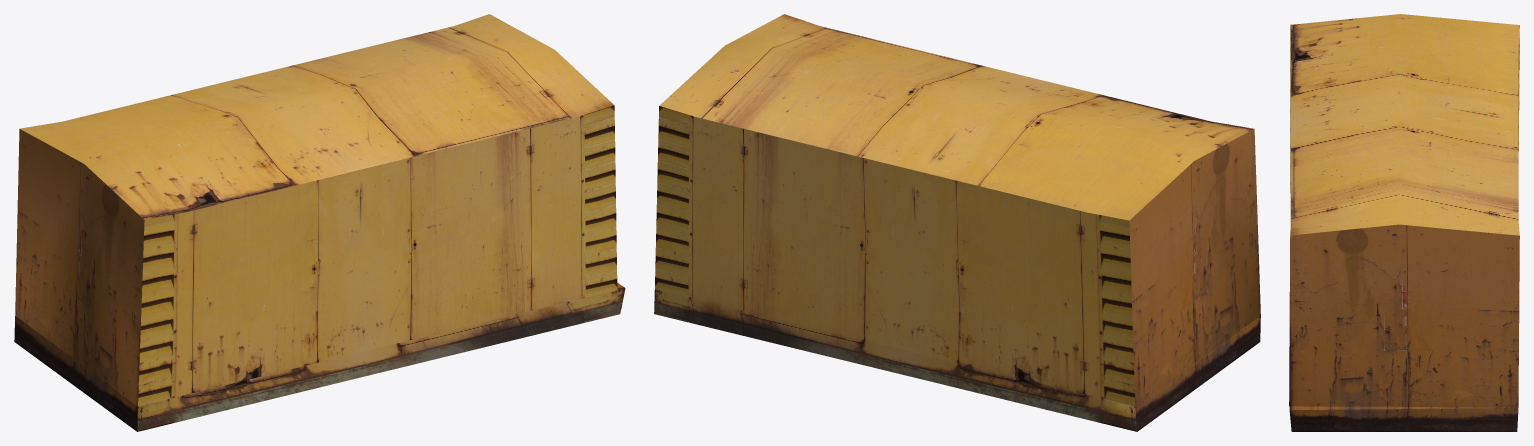
File: waste_container_low.fbx
3 renders of one model, left to right at view 1: azimuth 30°, elevation 25°; view 2: azimuth 150°, elevation 25°; view 3: azimuth 270°, elevation 25°, orthographic. The views are drawn at different scales.
Visible parts, largest first — view 1: U3DMesh; view 2: U3DMesh; view 3: U3DMesh.
Part boxes in pixels (<box>): U3DMesh: <box>14,14,625,431</box>; U3DMesh: <box>654,14,1260,431</box>; U3DMesh: <box>1289,14,1519,431</box>.
Size of the model in its own units: 177 by 80.71 by 79.2.
